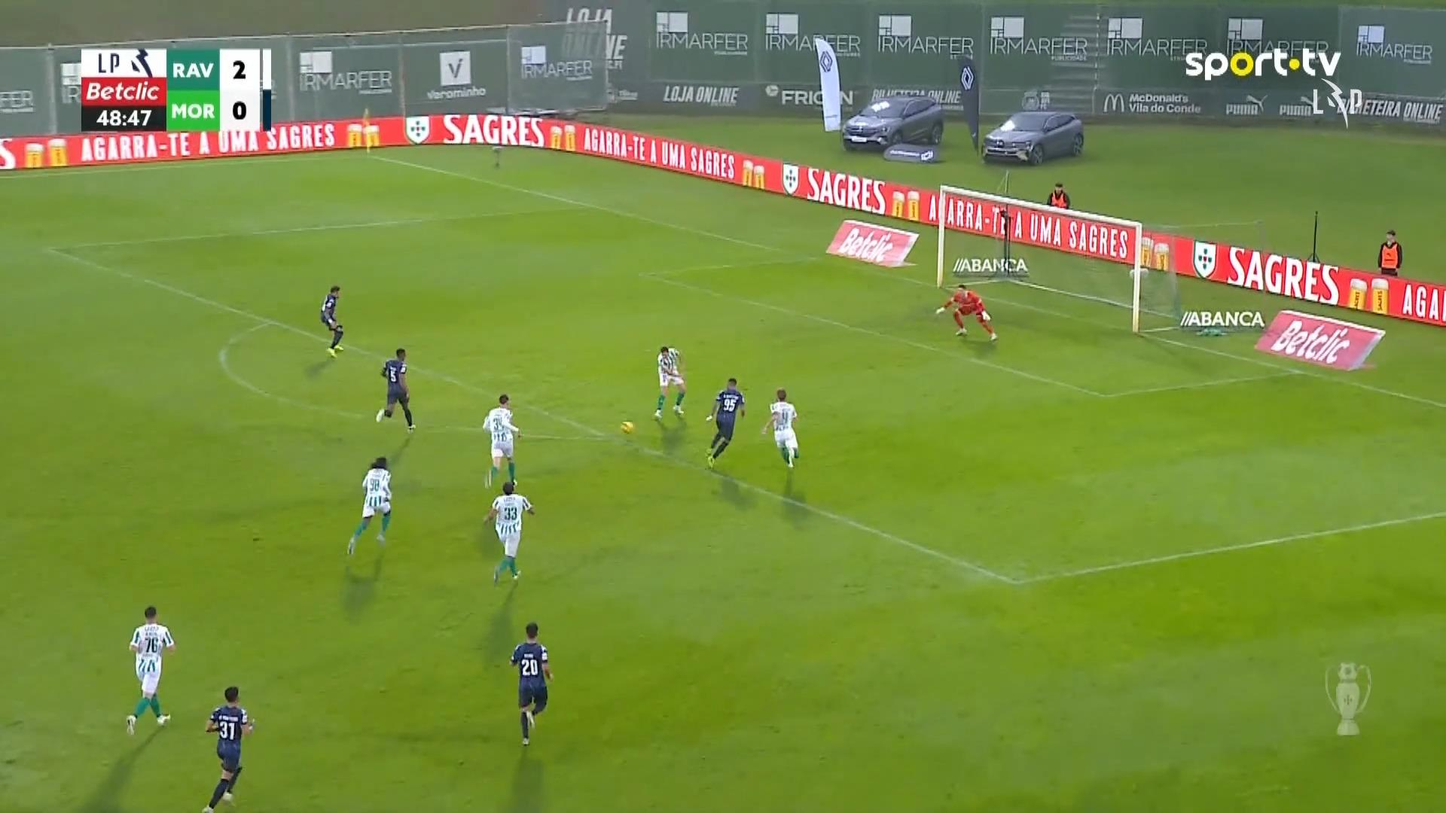ball: (620, 421, 633, 434)
goalkeeper: (935, 283, 998, 342)
player: (200, 685, 255, 811), (124, 604, 175, 735), (482, 480, 535, 585), (509, 621, 553, 746), (345, 455, 392, 556), (481, 393, 522, 489), (704, 376, 746, 469), (374, 347, 416, 432), (761, 388, 800, 469), (652, 344, 686, 421), (319, 284, 345, 358)
